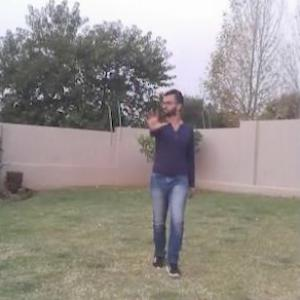follow_hand: (134, 100, 168, 134)
